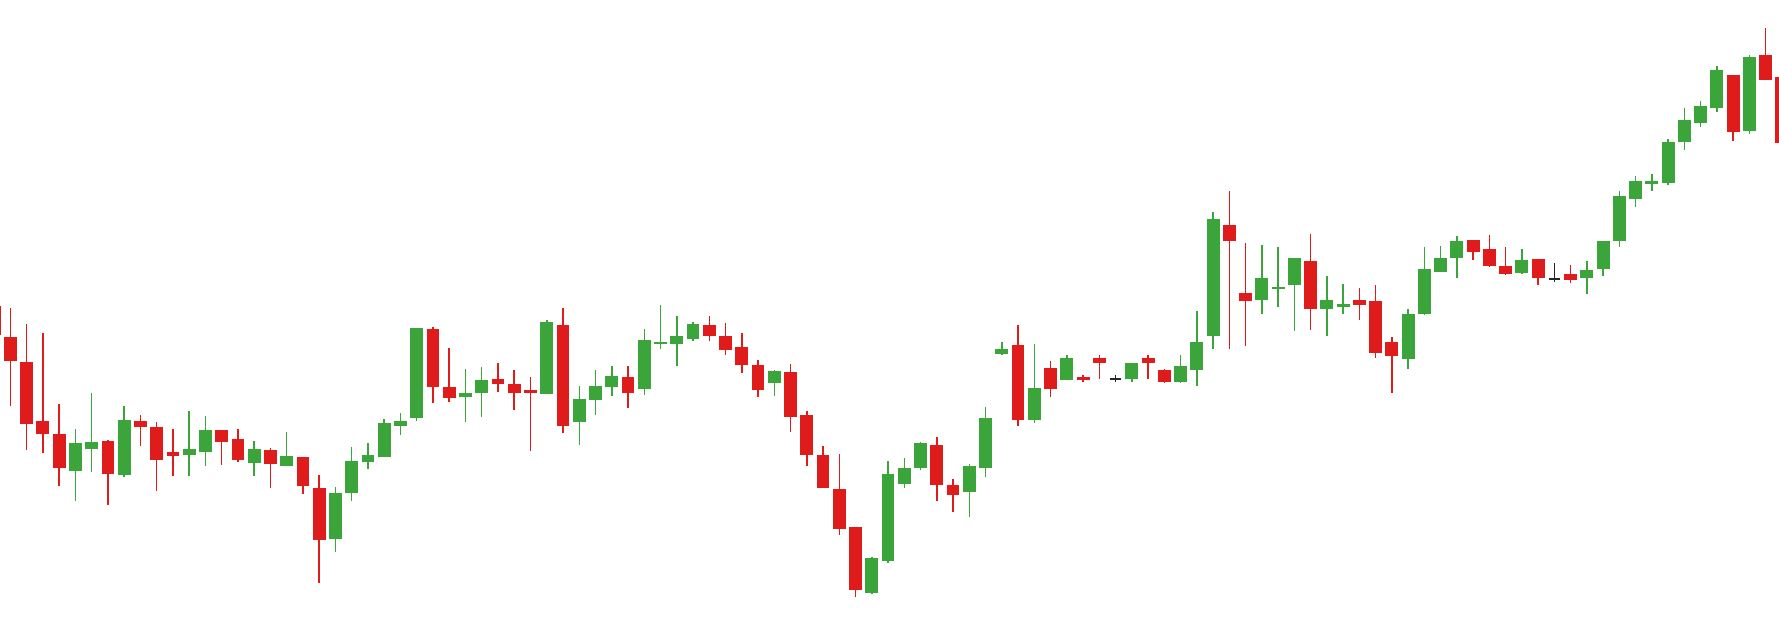buy: (1202, 273, 1416, 396)
